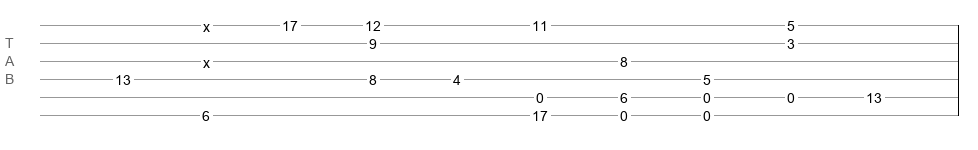0: (536, 90, 544, 100), (620, 108, 628, 118), (703, 108, 711, 118), (703, 90, 711, 100), (787, 90, 795, 100)
11: (532, 18, 548, 28)
12: (365, 18, 381, 28)
13: (115, 72, 131, 82), (866, 90, 882, 100)
17: (282, 18, 298, 28), (532, 108, 548, 118)
3: (787, 36, 795, 46)
4: (453, 72, 461, 82)
5: (703, 72, 711, 82), (787, 18, 795, 28)
6: (202, 108, 210, 118), (620, 90, 628, 100)
8: (369, 72, 377, 82), (620, 54, 628, 64)
9: (369, 36, 377, 46)
x: (203, 19, 210, 27), (203, 55, 210, 63)
